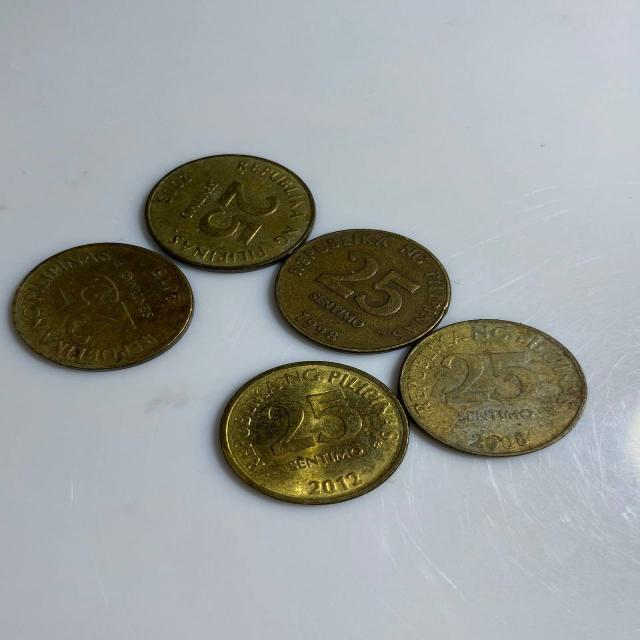25Cent_Old_Front: (255, 387, 368, 458), (312, 251, 423, 320), (437, 342, 544, 411), (49, 268, 130, 347), (201, 179, 271, 246)
